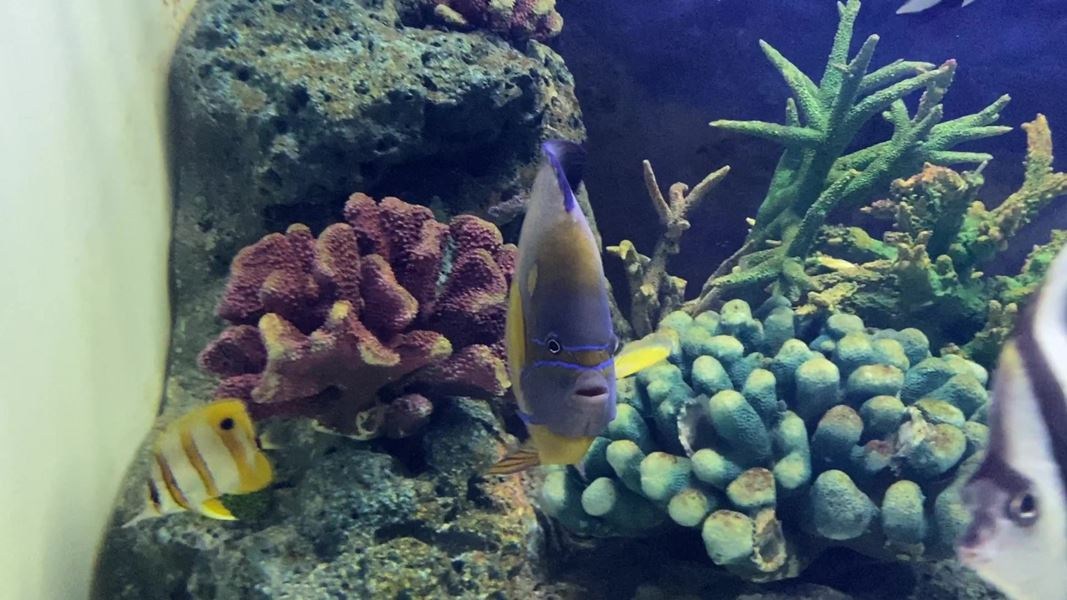Blue ring angelfish: (437, 134, 674, 486)
